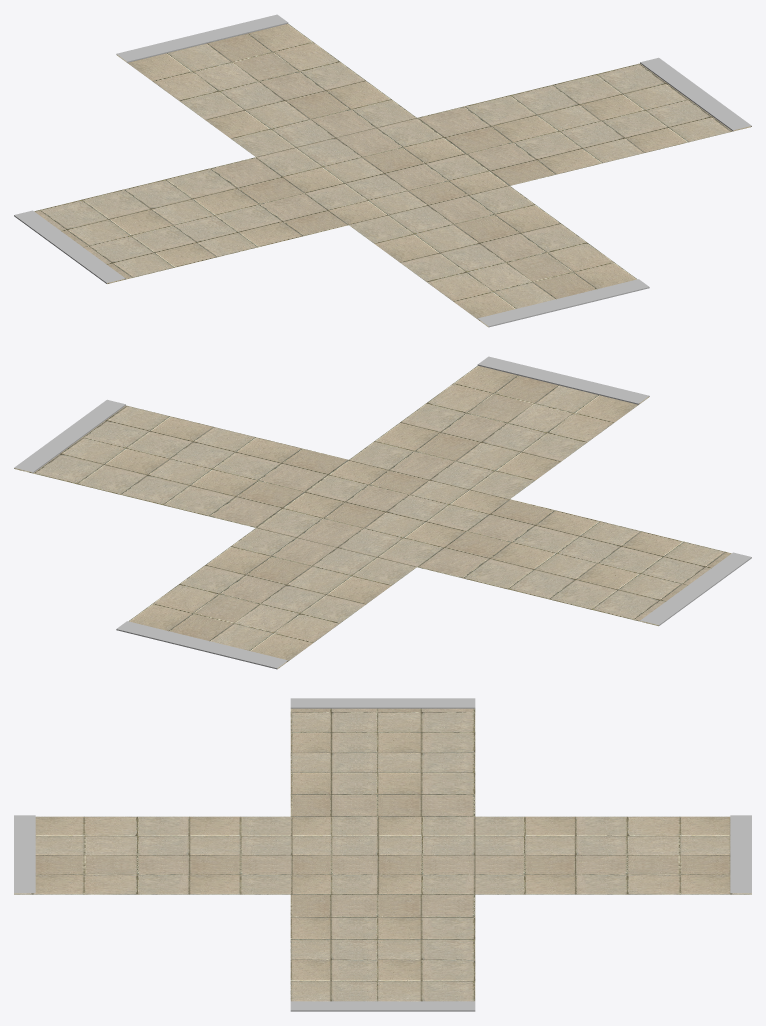
File: dungeon_Tile_05_Wall_Additional.fbx
The picture shows the model from 3 angles, top to bottom: view 1: azimuth 30°, elevation 25°; view 2: azimuth 150°, elevation 25°; view 3: azimuth 270°, elevation 25°; orthographic projection.
Parts seen in each view (by area): view 1: dungeon_Tile_05_Wall_Additional; view 2: dungeon_Tile_05_Wall_Additional; view 3: dungeon_Tile_05_Wall_Additional.
Part boxes in pixels (<box>): dungeon_Tile_05_Wall_Additional: <box>14,14,751,327</box>; dungeon_Tile_05_Wall_Additional: <box>14,356,751,669</box>; dungeon_Tile_05_Wall_Additional: <box>14,698,751,1011</box>.
Size of the model in its own units: 120 by 0.2022 by 120.
